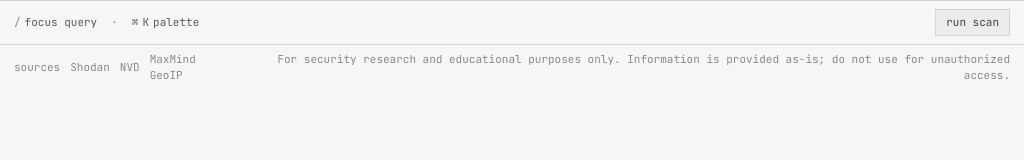
Test: ExplorerFooter › surfaces start errors inline without crashing
Click the button with test id "scan-trigger" at (973, 22), box [935,9,1010,36]
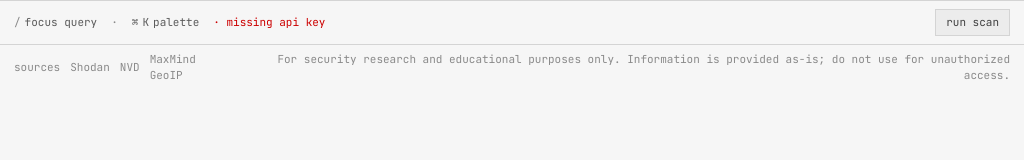
Expected: the text with test id "scan-start-error" shows "missing api key", [226,15,326,29]
